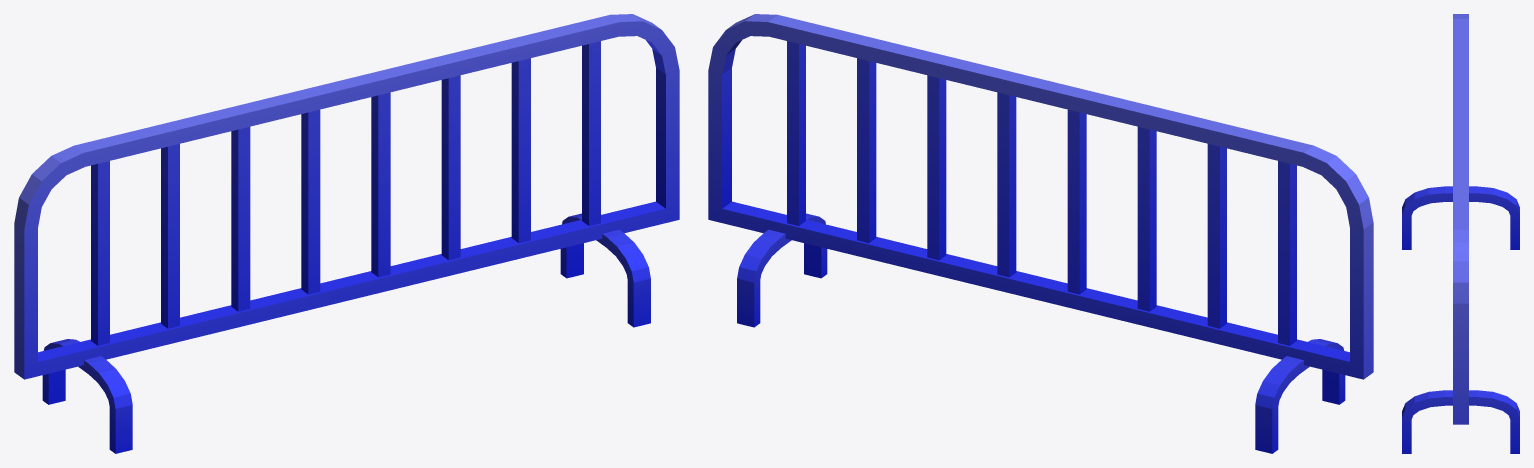
Rendered from lpb_fence_14.fbx.
3 renders of one model, left to right at view 1: azimuth 30°, elevation 25°; view 2: azimuth 150°, elevation 25°; view 3: azimuth 270°, elevation 25°, orthographic. The views are drawn at different scales.
Visible parts, largest first — view 1: fence14; view 2: fence14; view 3: fence14.
Boxes of the visible parts, x1,y1,x2,y2 form: fence14: (14,14,679,453); fence14: (708,14,1373,453); fence14: (1402,14,1519,453).
Size of the model in its own units: 493 by 200 by 95.23.
